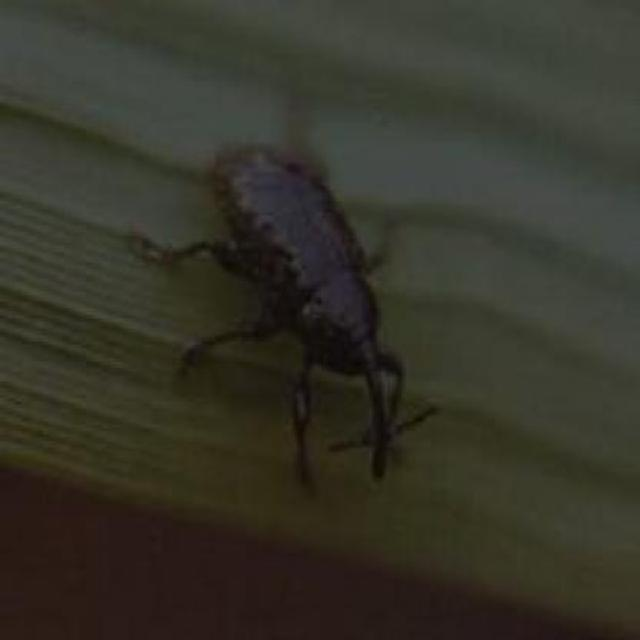rice-bug: (140, 148, 432, 495)
